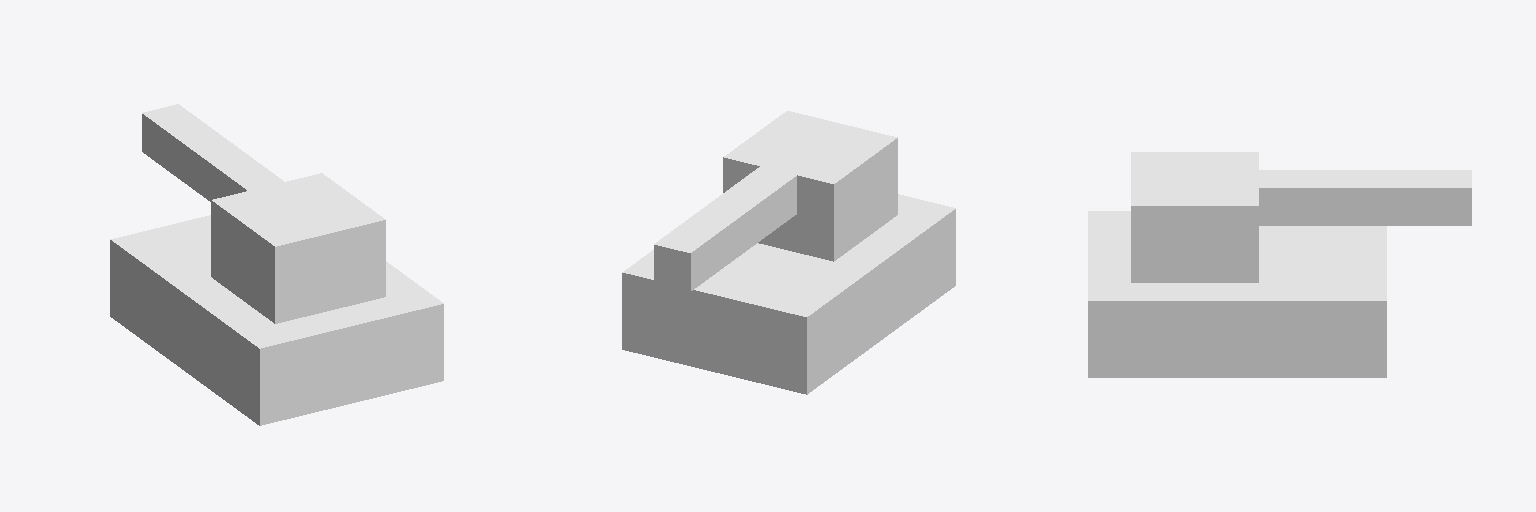
File: GermanTiger.obj
3 renders of one model, left to right at view 1: azimuth 30°, elevation 25°; view 2: azimuth 150°, elevation 25°; view 3: azimuth 270°, elevation 25°, orthographic.
Bounding box in the file's own units: 5 × 4 × 9.